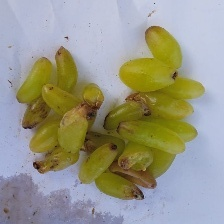grapes: (12, 13, 187, 172)
